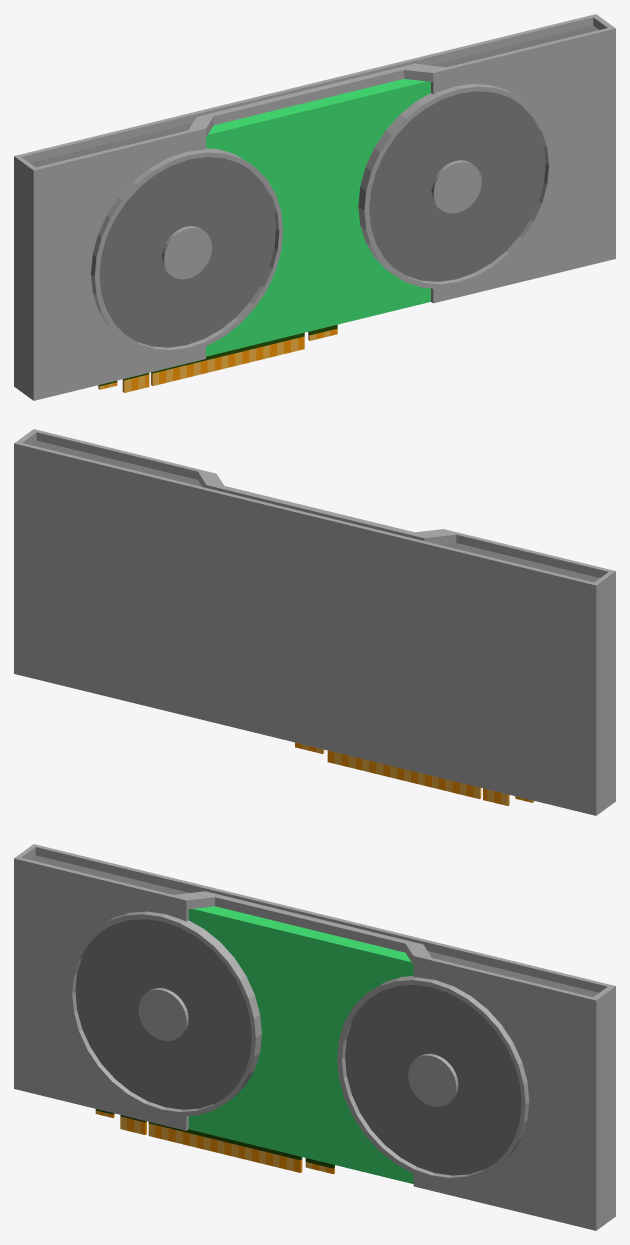
Rendered from gpu.glb.
The picture shows the model from 3 angles, top to bottom: view 1: azimuth 30°, elevation 25°; view 2: azimuth 150°, elevation 25°; view 3: azimuth 330°, elevation 25°; orthographic projection.
Parts seen in each view (by area): view 1: GraphicsCard; view 2: GraphicsCard; view 3: GraphicsCard.
Boxes of the visible parts, <box> form: GraphicsCard: <box>14,14,615,400</box>; GraphicsCard: <box>14,429,615,815</box>; GraphicsCard: <box>14,844,615,1230</box>.
Bounding box in the file's own units: 4.25 × 1.76 × 0.2979.
